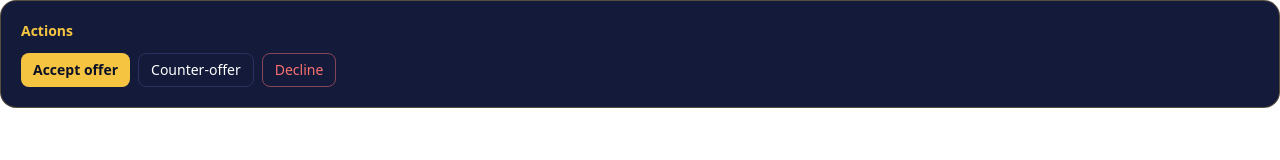
it: BookingActions › shows the database’s refusal instead of failing silently
Click the button "Accept offer".
click(76, 70)  # box [21, 53, 130, 87]
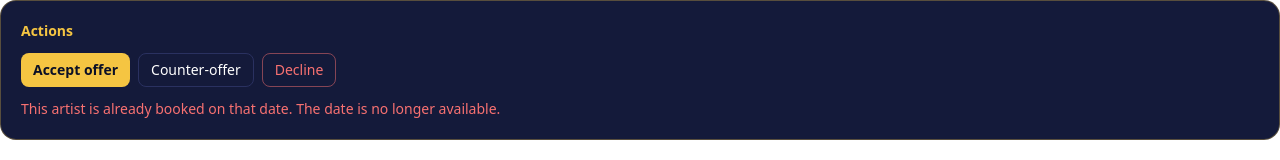
expect the message shows "already booked": met, box [21, 99, 500, 118]
